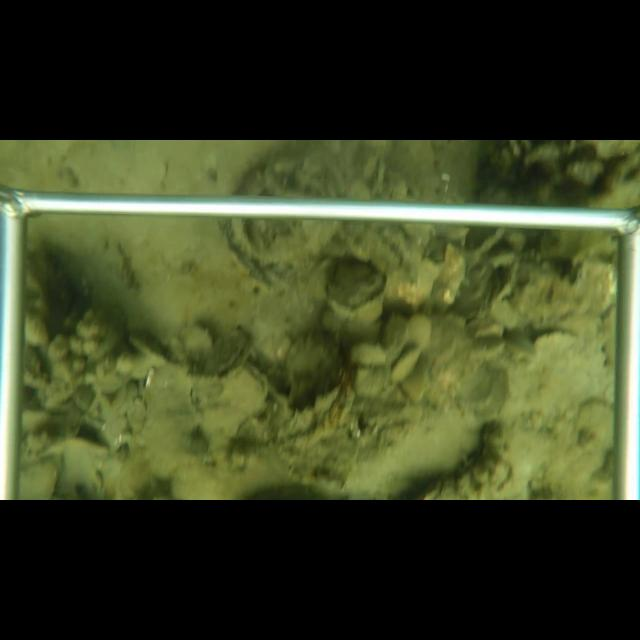Oyster-Closed: (370, 158, 386, 196)
Oyster-Open: (215, 357, 270, 416)
